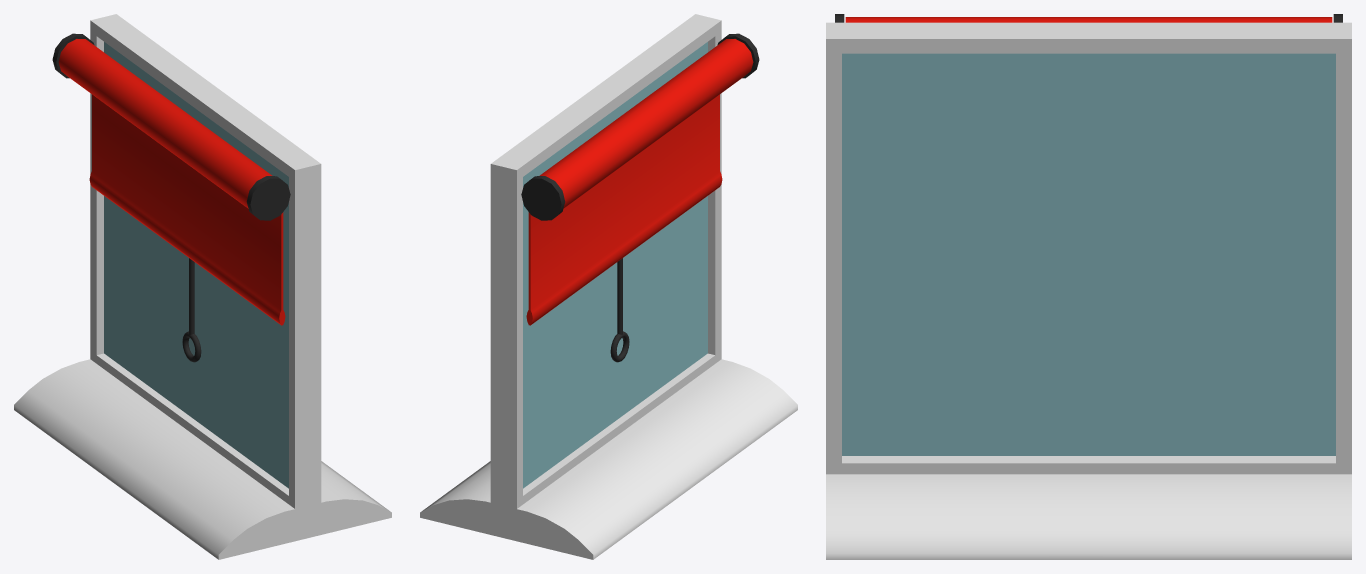
Rendered from GB_071_window.glb.
3 views of the same model, side by side, from view 1: azimuth 30°, elevation 25°; view 2: azimuth 150°, elevation 25°; view 3: azimuth 270°, elevation 25° (orthographic). The views are drawn at different scales.
Parts seen in each view (by area): view 1: Window, CurtainSide; view 2: Window, CurtainSide; view 3: Window.
Part boxes in pixels (bbox=[...]): Window: bbox=[14, 14, 391, 559]; CurtainSide: bbox=[52, 33, 290, 220]; Window: bbox=[420, 14, 797, 559]; CurtainSide: bbox=[521, 33, 759, 220]; Window: bbox=[826, 17, 1351, 559].
Bounding box in the file's own units: 0.7317 × 1.5 × 1.5.
